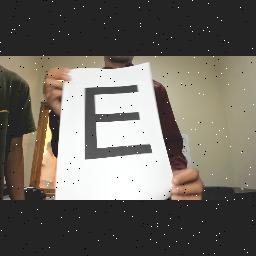e: (79, 81, 155, 165)
